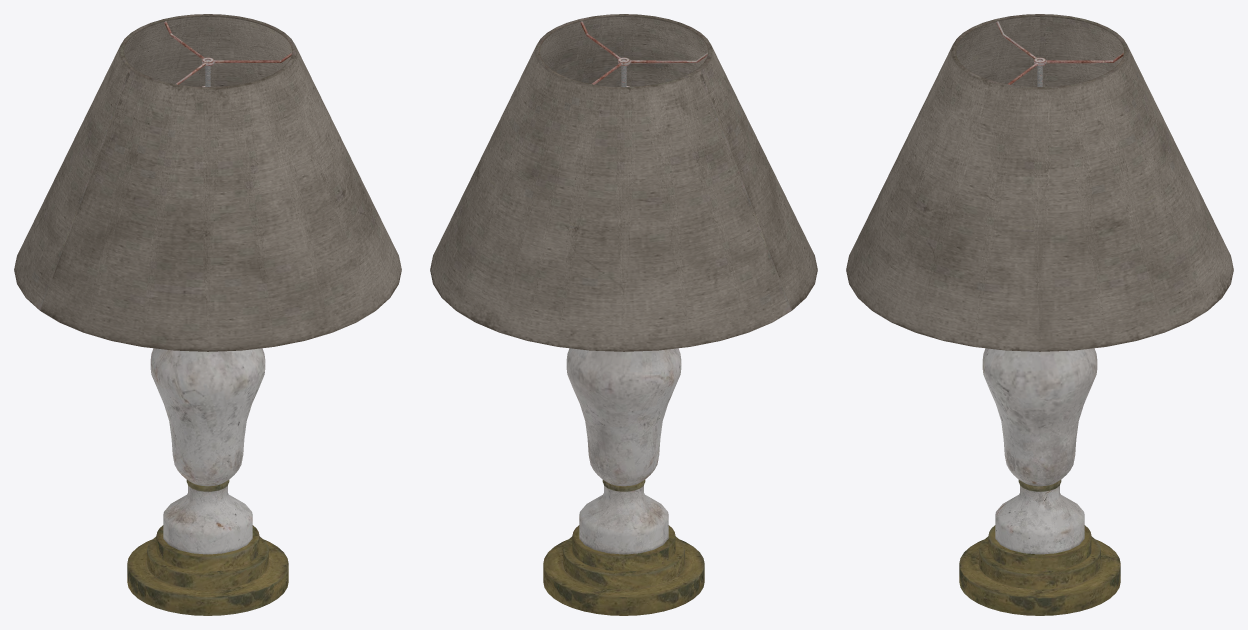
The model's file is table-lamp.glb.
The picture shows the model from 3 angles, left to right: view 1: azimuth 30°, elevation 25°; view 2: azimuth 150°, elevation 25°; view 3: azimuth 270°, elevation 25°; orthographic projection.
Parts seen in each view (by area): view 1: Cylinder.009_low; view 2: Cylinder.009_low; view 3: Cylinder.009_low.
Part boxes in pixels (x1=…): Cylinder.009_low: x1=14, y1=14, x2=401, y2=615; Cylinder.009_low: x1=430, y1=14, x2=817, y2=615; Cylinder.009_low: x1=846, y1=14, x2=1233, y2=615.
Size of the model in its own units: 0.4924 by 0.7444 by 0.4924.
1 material, 1 textured.
